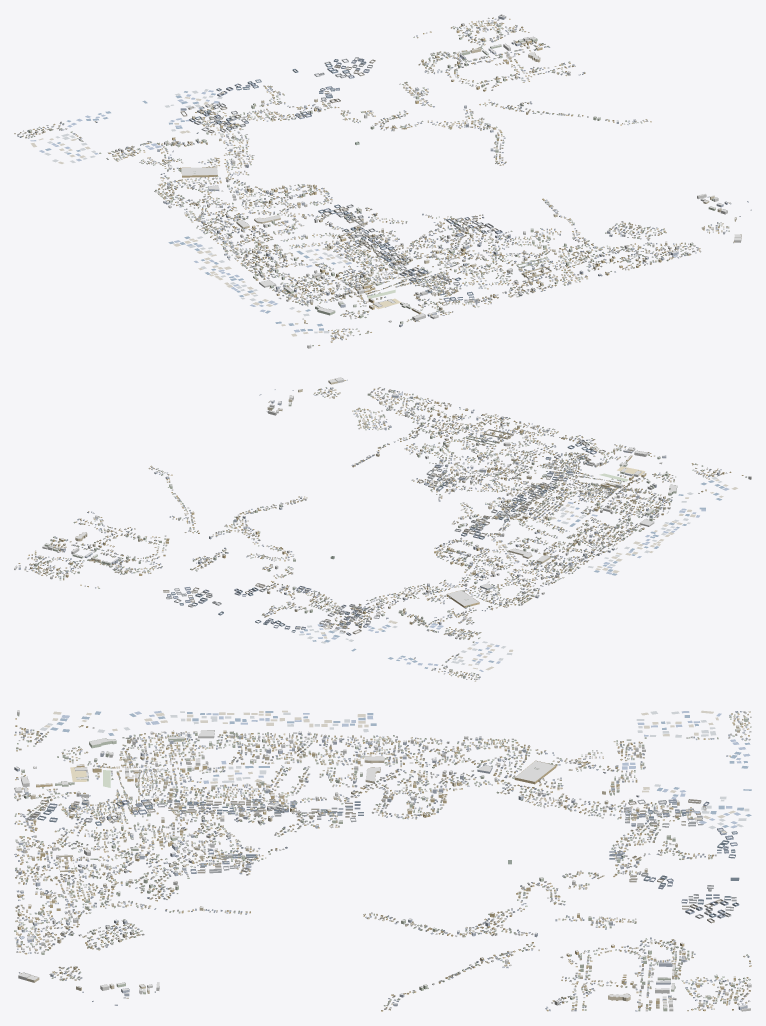
The picture shows the model from 3 angles, top to bottom: view 1: azimuth 30°, elevation 25°; view 2: azimuth 150°, elevation 25°; view 3: azimuth 270°, elevation 25°; orthographic projection. The views are drawn at different scales.
Visible parts, largest first — view 1: house, apartment, roof_zinc, factory, roof_flat; view 2: house, apartment, roof_zinc, factory, roof_flat; view 3: house, roof_zinc, apartment, factory, roof_flat.
Boxes of the visible parts, bbox=[...] form: house: bbox=[14, 17, 751, 346]; apartment: bbox=[28, 14, 741, 348]; roof_zinc: bbox=[15, 18, 748, 345]; factory: bbox=[180, 57, 551, 305]; roof_flat: bbox=[29, 14, 741, 345]; house: bbox=[18, 380, 746, 681]; apartment: bbox=[14, 377, 751, 678]; roof_zinc: bbox=[25, 387, 742, 681]; factory: bbox=[163, 429, 605, 635]; roof_flat: bbox=[14, 377, 751, 675]; house: bbox=[14, 711, 751, 1011]; roof_zinc: bbox=[14, 710, 751, 1011]; apartment: bbox=[14, 710, 751, 1011]; factory: bbox=[26, 799, 739, 923]; roof_flat: bbox=[15, 710, 750, 1009].
Bounding box in the file's own units: 1.39e+08 × 741779 × 1.45e+08.
